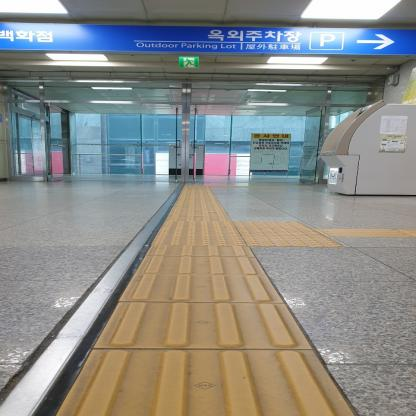go: (52, 348, 357, 416), (90, 301, 315, 350), (118, 273, 286, 303), (135, 256, 268, 275), (145, 245, 256, 257)
stop: (151, 235, 248, 246)
